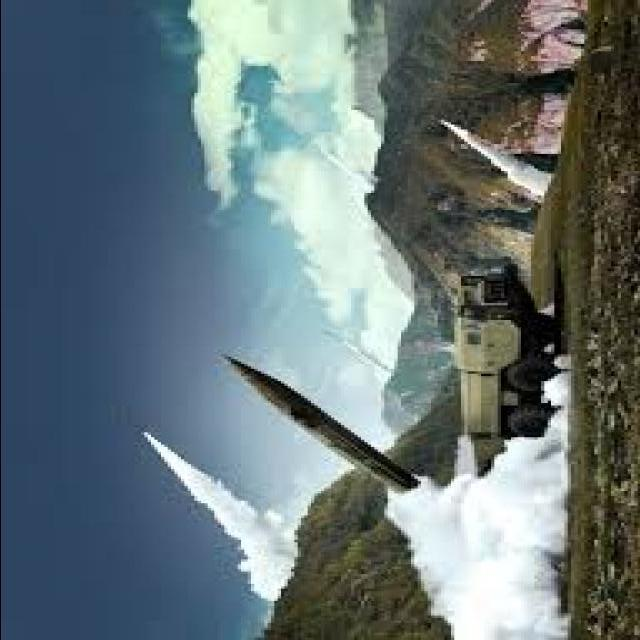missile: (216, 343, 431, 506), (430, 100, 560, 204)
